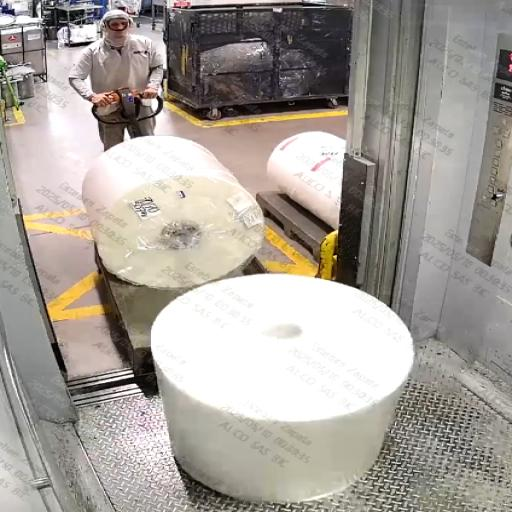rollos caidos: (45, 146, 459, 502)
